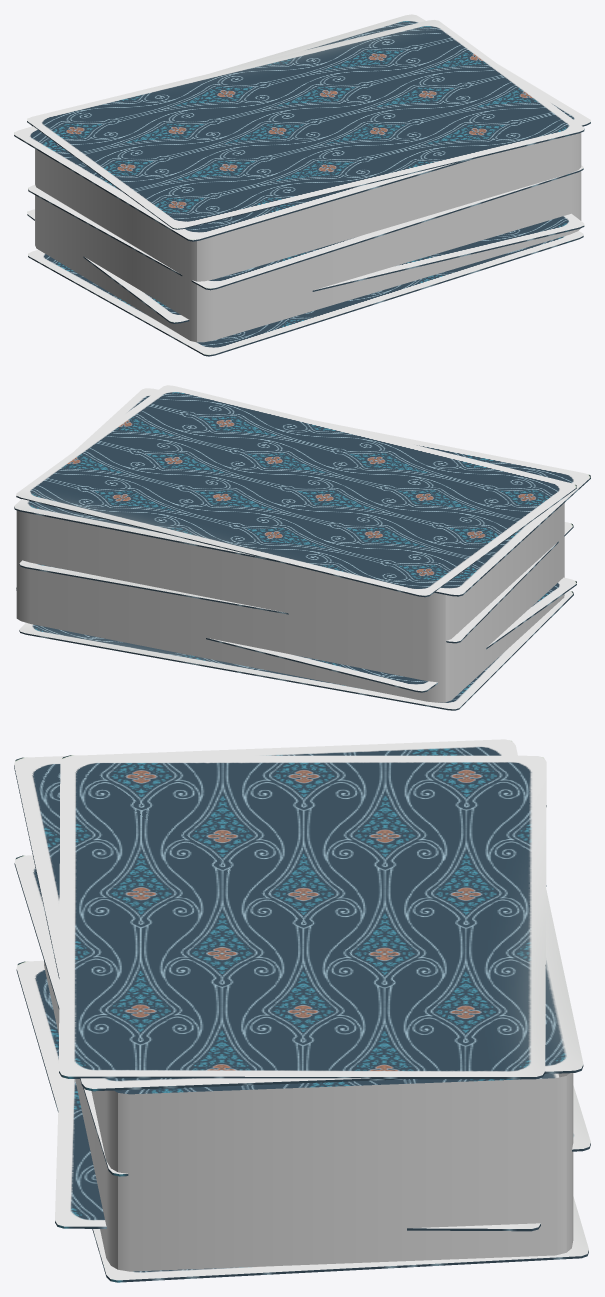
Rendered from CardPack.fbx.
3 views of the same model, one above another, from view 1: azimuth 30°, elevation 25°; view 2: azimuth 150°, elevation 25°; view 3: azimuth 270°, elevation 25° (orthographic). The views are drawn at different scales.
Visible parts, largest first — view 1: Mazo_Cartas; view 2: Mazo_Cartas; view 3: Mazo_Cartas.
Part boxes in pixels (<box>): Mazo_Cartas: <box>14,14,590,356</box>; Mazo_Cartas: <box>14,385,590,710</box>; Mazo_Cartas: <box>14,739,590,1282</box>.
Bounding box in the file's own units: 223 × 57.92 × 155.
Materials: 2 (1 with a texture image).
